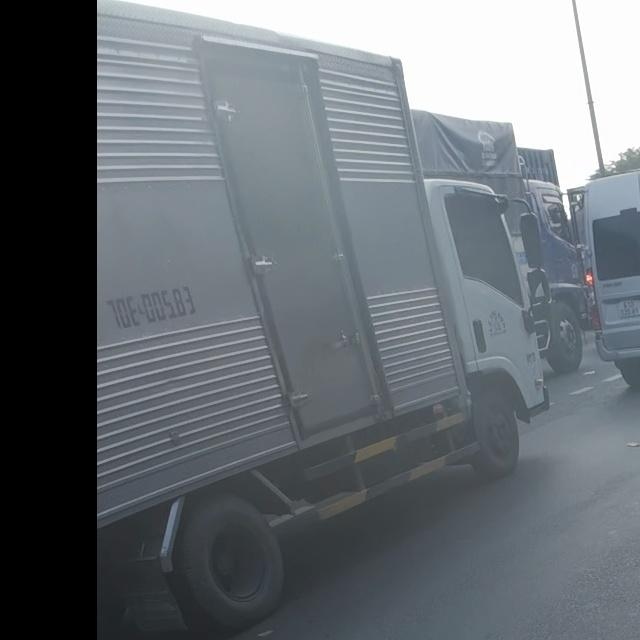license-plate: (616, 298, 640, 319)
